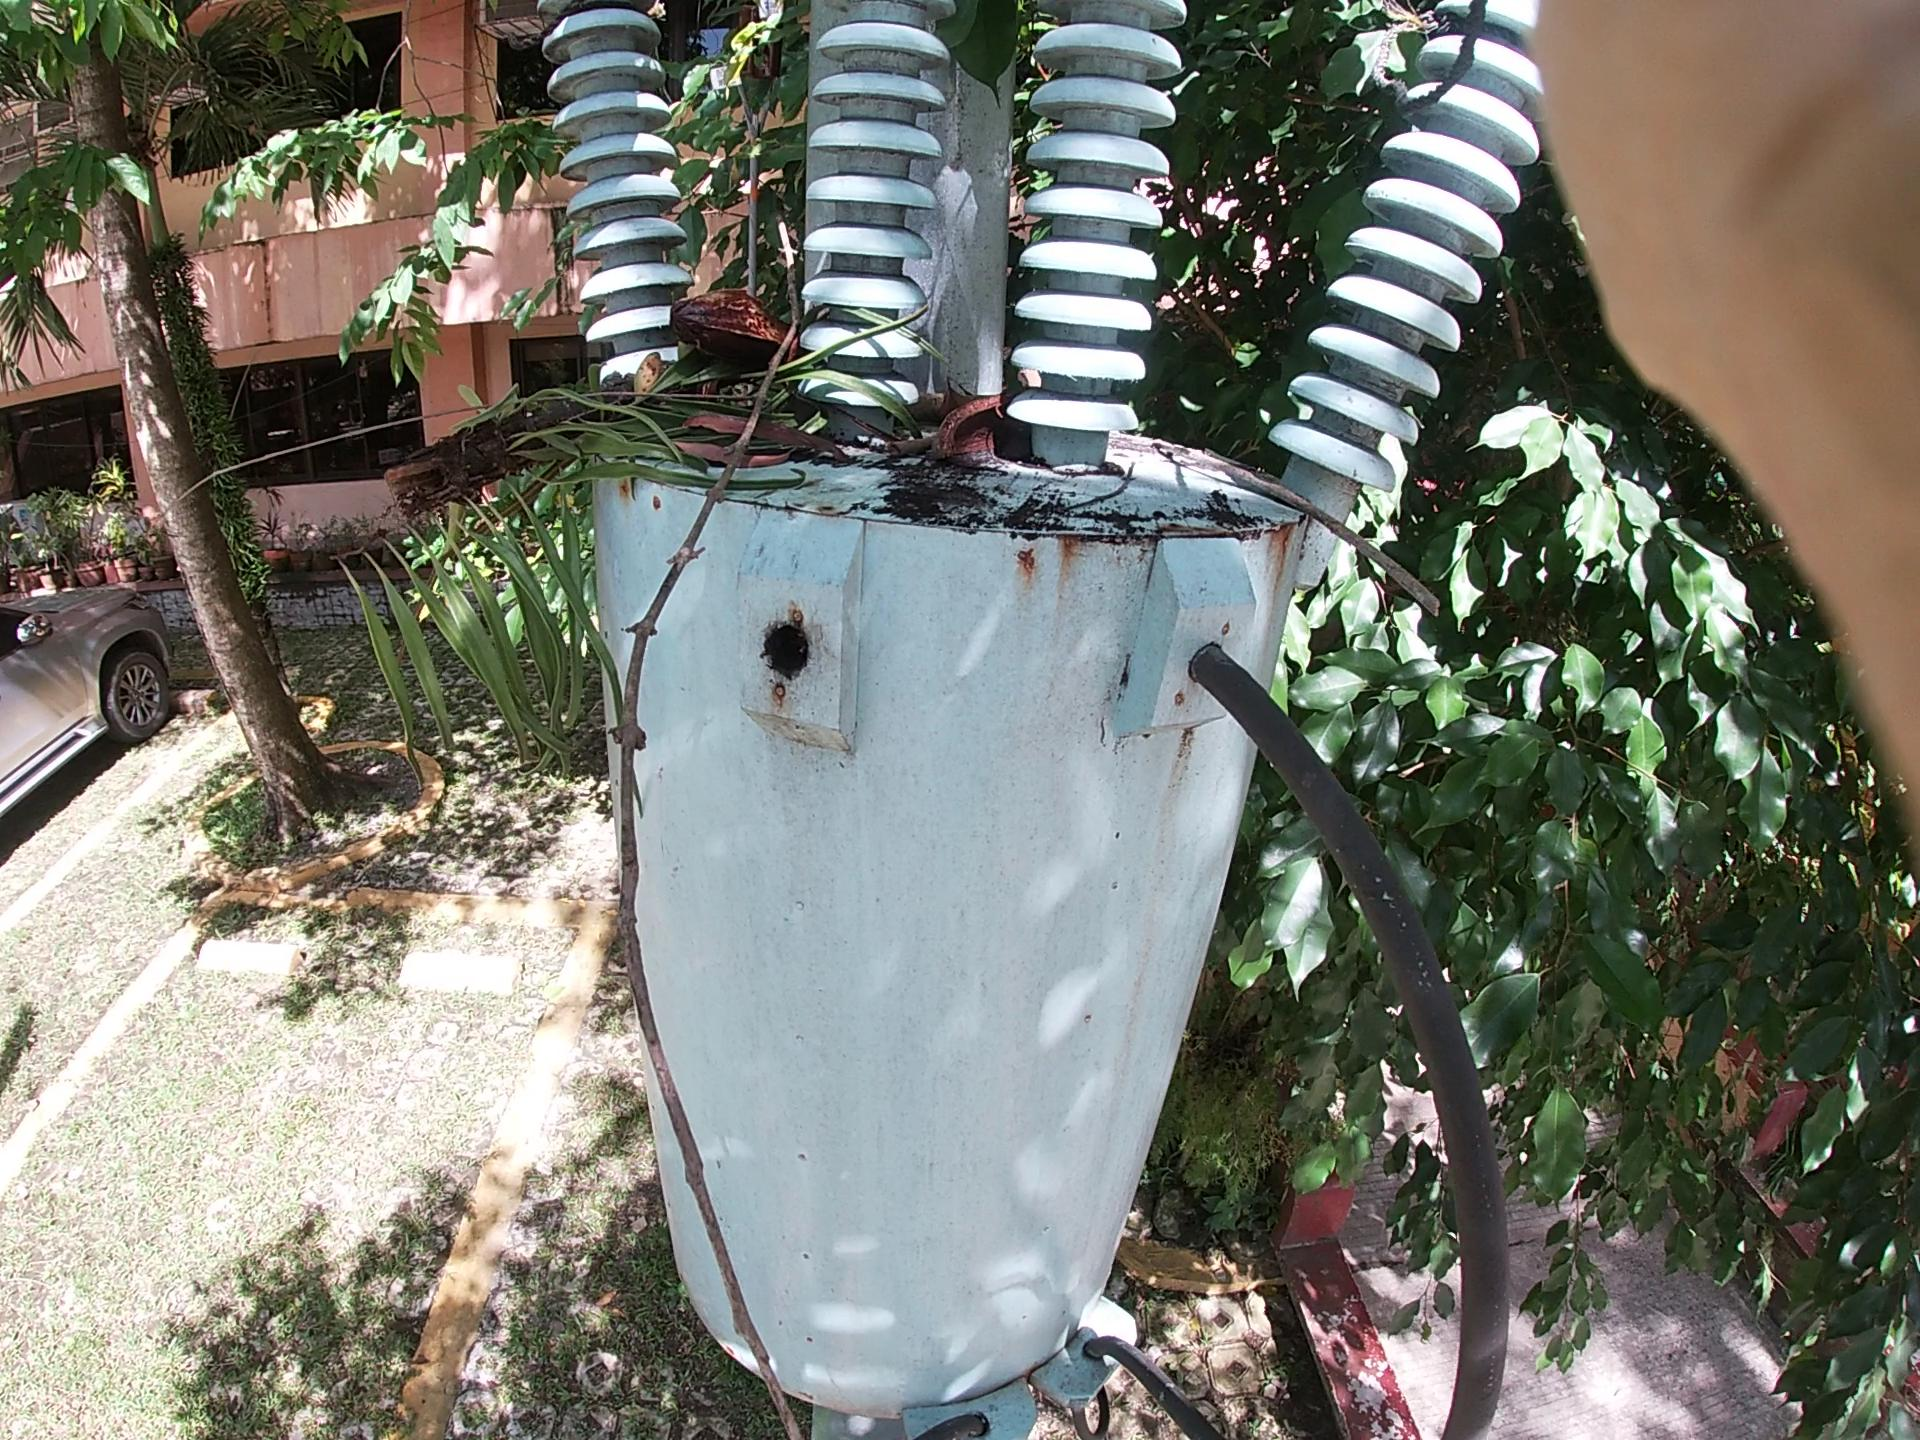branch with leaves: (221, 144, 1002, 774)
leaf: (534, 2, 1259, 219)
mahogany fruit: (612, 272, 810, 430), (909, 340, 1054, 489)
tree branch: (623, 265, 857, 1393), (1178, 433, 1522, 682), (857, 349, 1033, 542)
